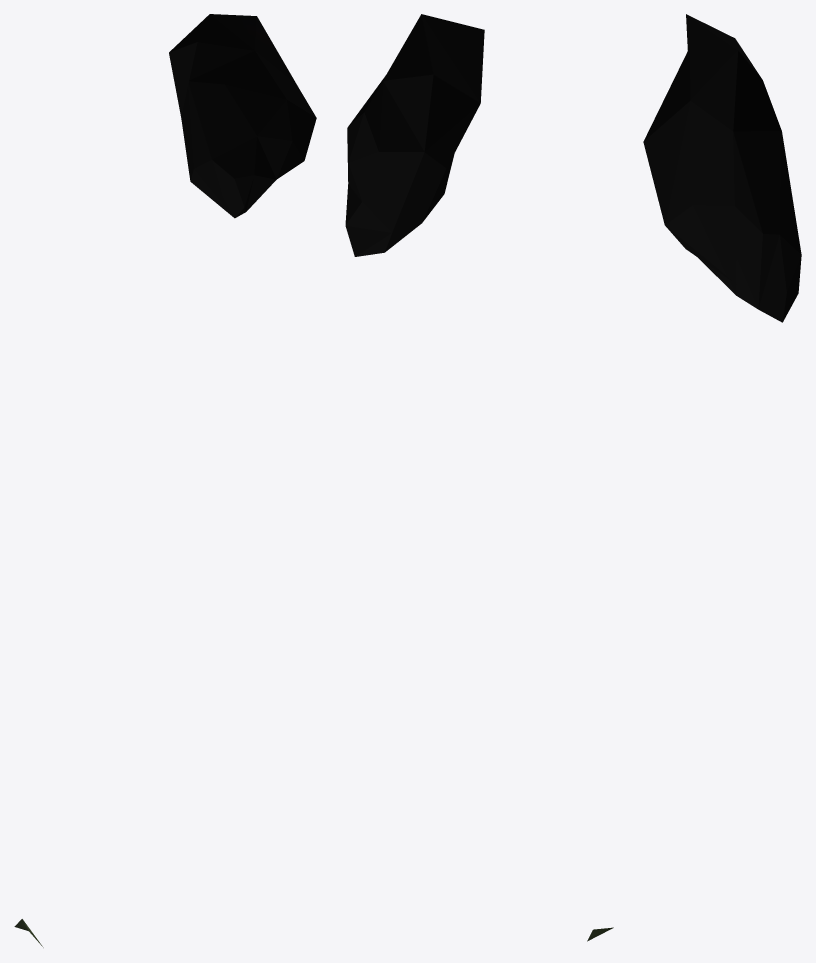
3 views of the same model, side by side, from view 1: azimuth 30°, elevation 25°; view 2: azimuth 150°, elevation 25°; view 3: azimuth 270°, elevation 25° (orthographic). The views are drawn at different scales.
Size of the model in its own units: 1.17 by 3.73 by 0.5288.
Materials: 1 (1 with a texture image).
